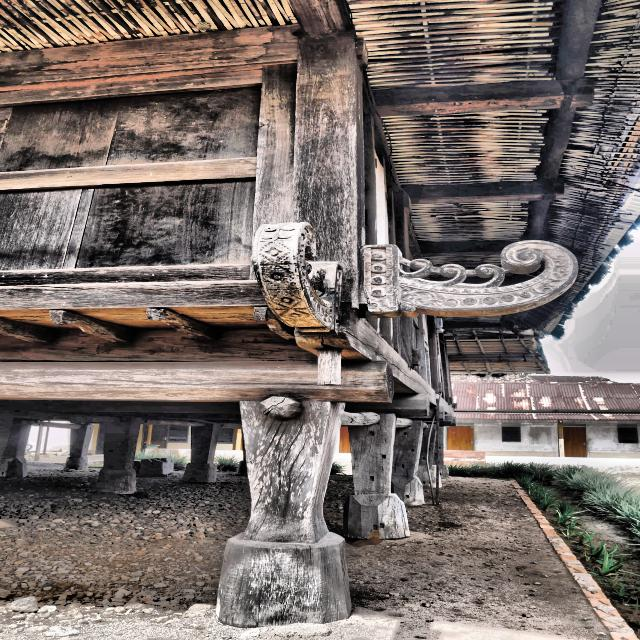column: (217, 401, 352, 628), (344, 414, 411, 539), (95, 417, 142, 494), (392, 420, 425, 505), (182, 423, 220, 483), (0, 419, 32, 478), (414, 425, 442, 488), (64, 424, 95, 470), (432, 426, 449, 477)
ornamen: (359, 240, 579, 318), (253, 222, 343, 336)
roof: (1, 1, 638, 337)
wall: (0, 22, 453, 405)
